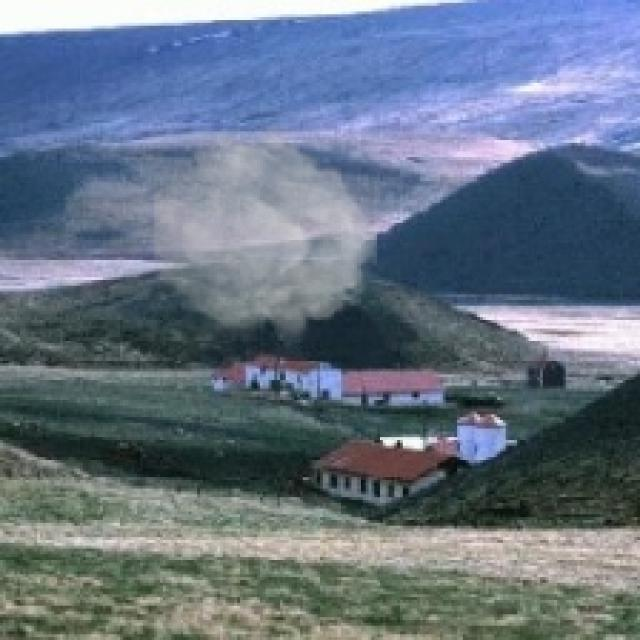smoke: (154, 123, 377, 346)
